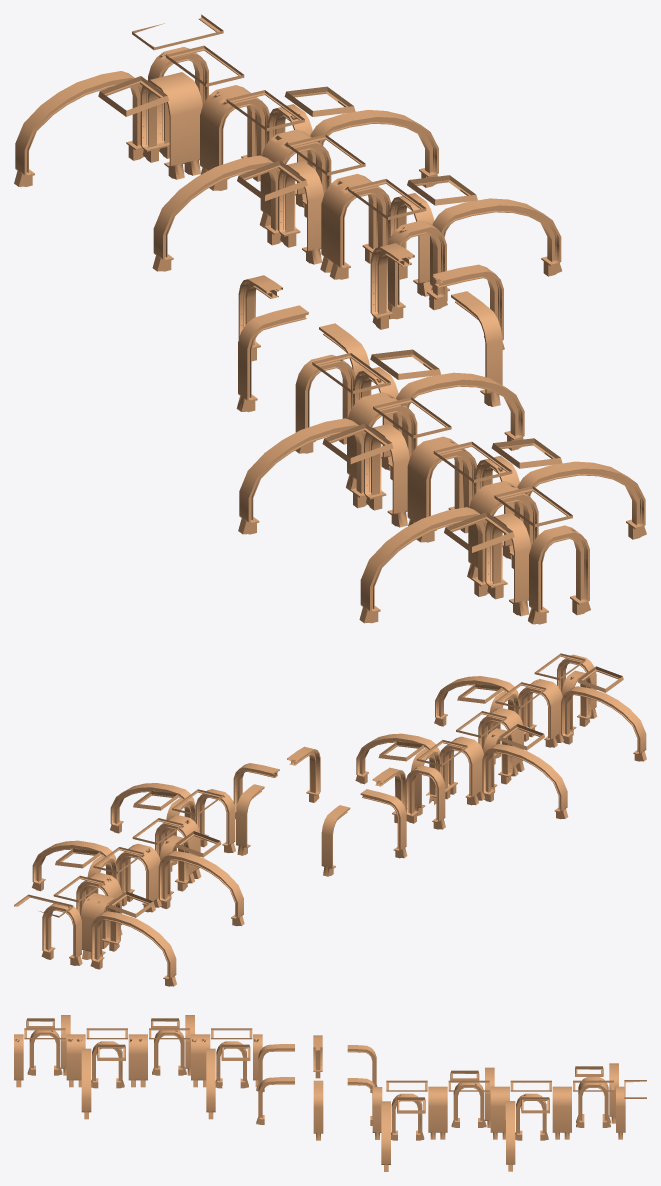
File: metalviejoparedes.fbx
3 views of the same model, one above another, from view 1: azimuth 30°, elevation 25°; view 2: azimuth 150°, elevation 25°; view 3: azimuth 270°, elevation 25° (orthographic). The views are drawn at different scales.
Visible parts, largest first — view 1: metalviejoparedes; view 2: metalviejoparedes; view 3: metalviejoparedes.
Part boxes in pixels (x1,y1,x2,y2): metalviejoparedes: (14, 14, 646, 624); metalviejoparedes: (14, 653, 646, 986); metalviejoparedes: (14, 1015, 646, 1171).
Bounding box in the file's own units: 1945 × 354 × 4071.
